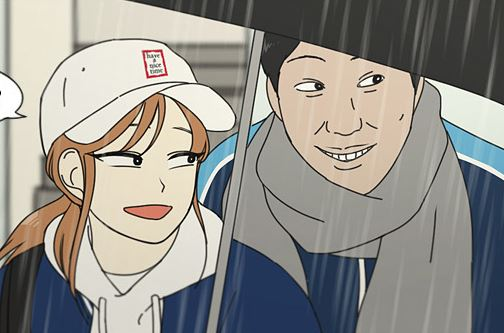hat: (38, 34, 237, 144)
